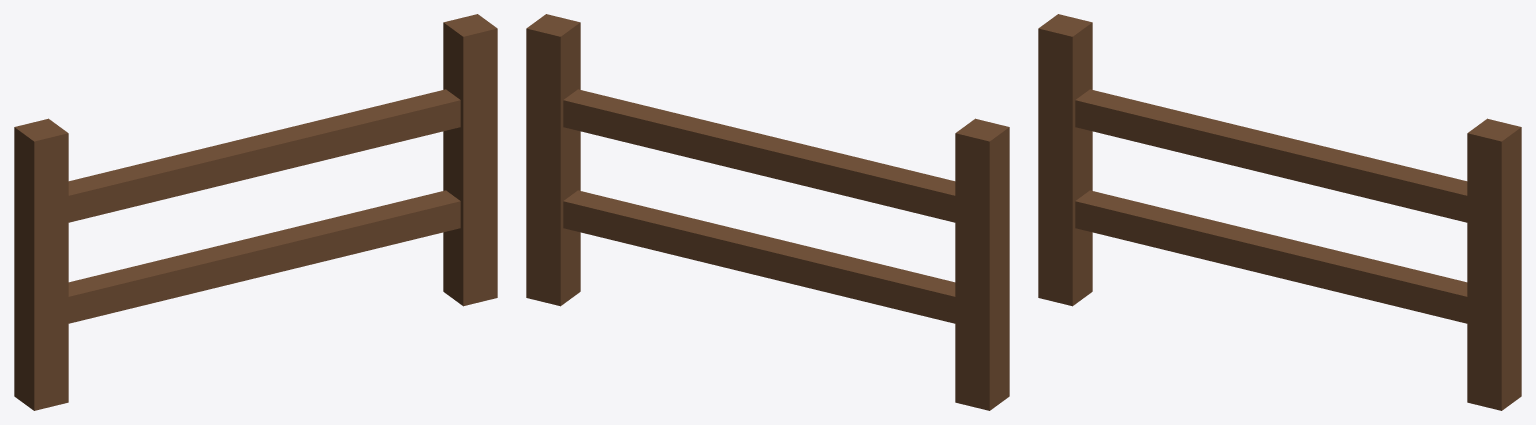
Rendered from fence.glb.
The picture shows the model from 3 angles, left to right: view 1: azimuth 30°, elevation 25°; view 2: azimuth 150°, elevation 25°; view 3: azimuth 330°, elevation 25°; orthographic projection.
Parts seen in each view (by area): view 1: fence-surface; view 2: fence-surface; view 3: fence-surface.
Boxes of the visible parts, x1=… form: fence-surface: x1=14, y1=14, x2=497, y2=410; fence-surface: x1=526, y1=14, x2=1009, y2=410; fence-surface: x1=1038, y1=14, x2=1521, y2=410.
Bounding box in the file's own units: 2.16 × 1.2 × 0.16.
